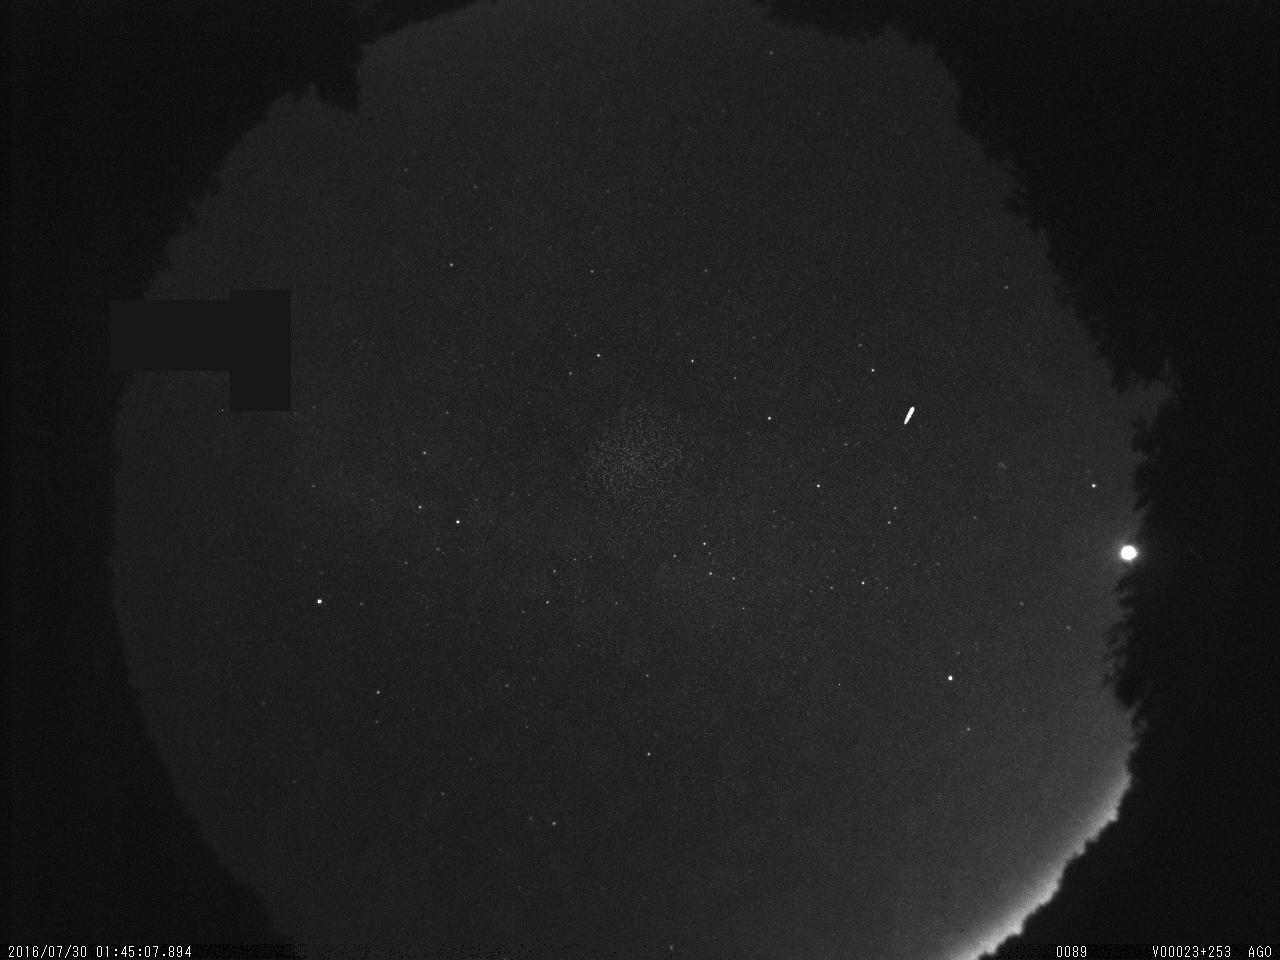meteor: (895, 387, 927, 442)
